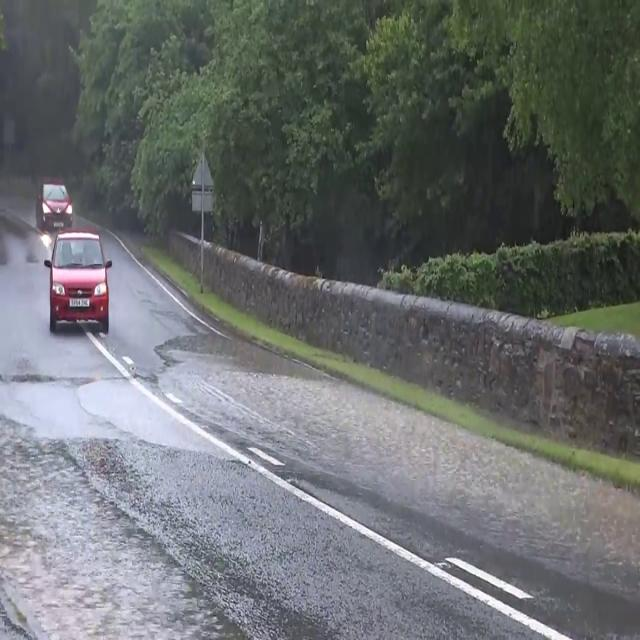license-plate-annotation: (67, 295, 94, 308)
